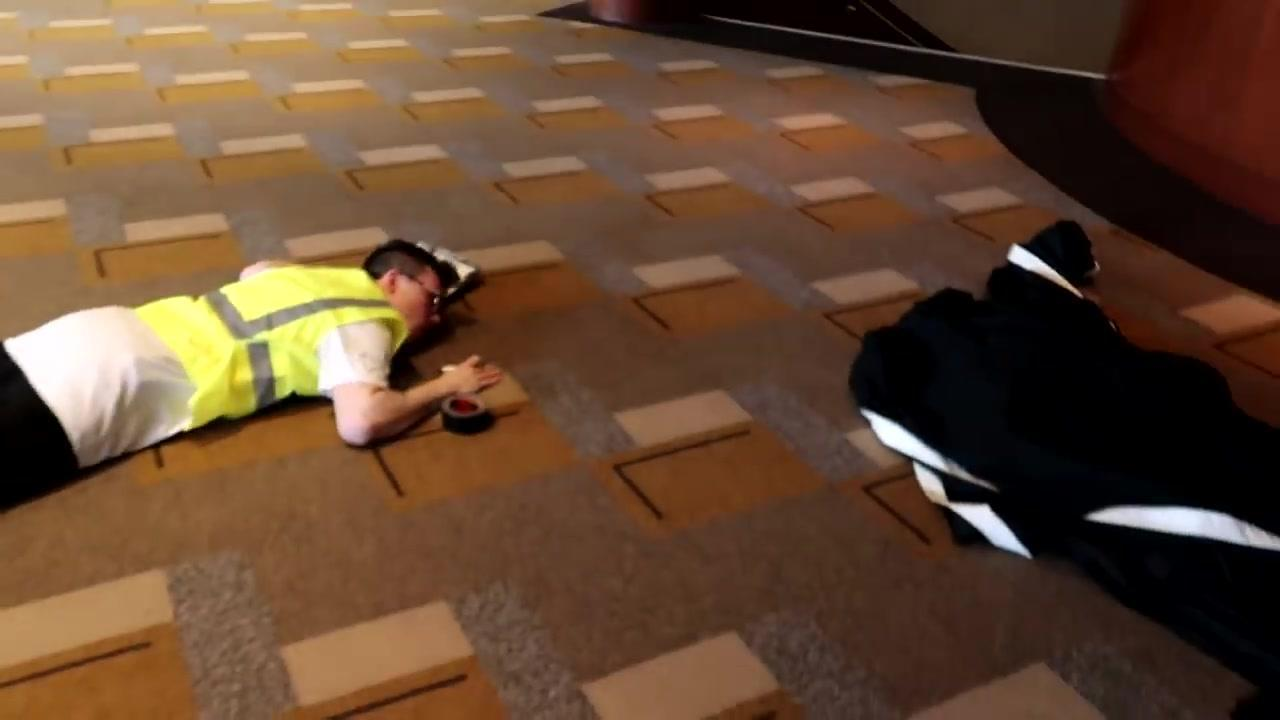vest: (136, 258, 409, 431)
